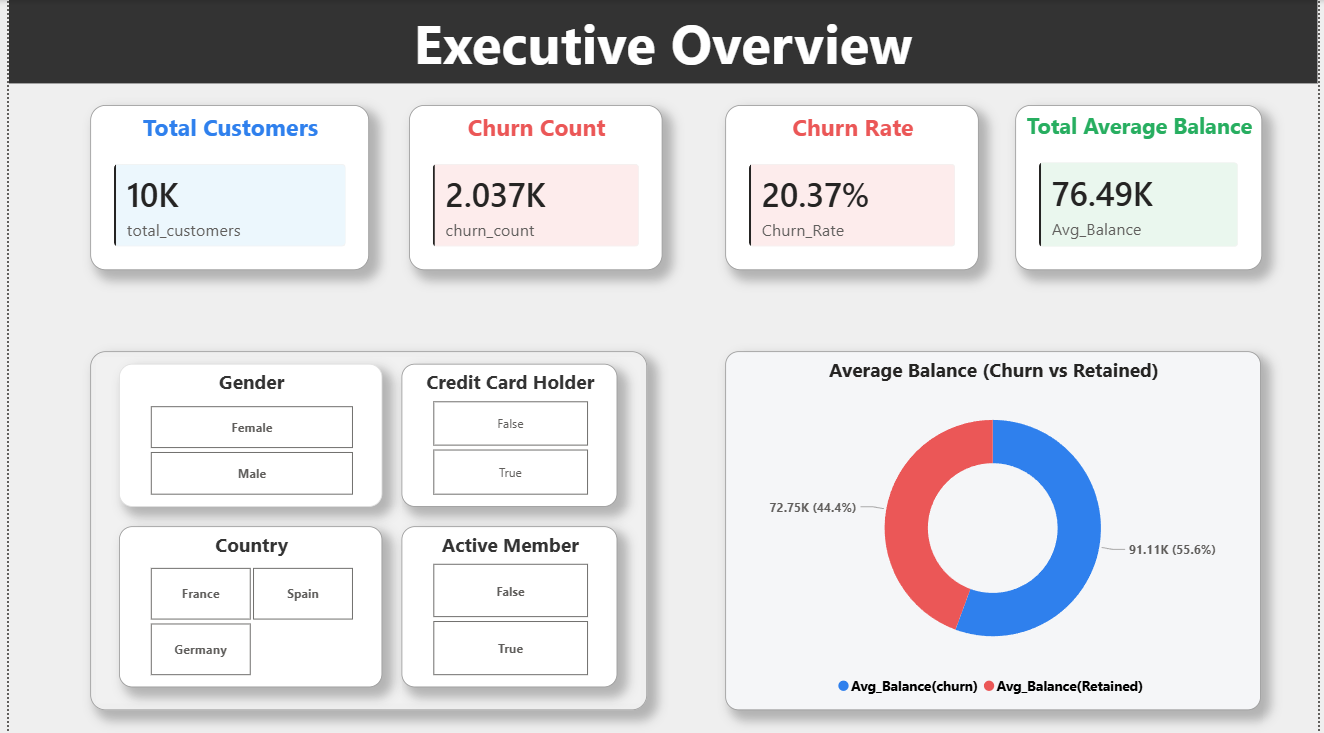

What the dashboard file says about the page in this screenshot:
{"tool":"powerbi","page":{"name":"Executive Overview","canvas":[1280,720],"ordinal":1},"visuals":[{"type":"shape","box":[79.6,343.1,544.8,351.3],"z":0},{"type":"cardVisual","title":"Total Customers","fields":{"Data":["Churn_Modelling.total_customers"]},"box":[79.6,102.9,273.1,161.9],"z":1000},{"type":"cardVisual","title":"Churn Count","fields":{"Data":["Churn_Modelling.churn_count"]},"box":[391.1,102.9,248.4,161.9],"z":2000},{"type":"cardVisual","title":"Churn Rate","fields":{"Data":["Churn_Modelling.Churn_Rate"]},"box":[701.2,102.9,248.4,161.9],"z":3000},{"type":"cardVisual","title":"Total Average Balance","fields":{"Data":["Churn_Modelling.Avg_Balance"]},"box":[983.9,102.9,241.5,161.9],"z":4000},{"type":"textbox","box":[0,0,1280,81.2],"z":5000},{"type":"donutChart","title":"Average Balance (Churn vs Retained)","fields":{"Y":["Churn_Modelling.Avg_Balance(churn)","Churn_Modelling.Avg_Balance(Retained)"]},"box":[701.2,343.1,524.2,351.3],"z":6000},{"type":"slicer","title":"Gender","fields":{"Values":["Churn_Modelling.Gender"]},"box":[107,356.2,258,140],"z":7000},{"type":"slicer","title":"Country","fields":{"Values":["Churn_Modelling.Geography"]},"box":[107,515.4,258,157.8],"z":8000},{"type":"slicer","title":"Active Member","fields":{"Values":["Churn_Modelling.IsActiveMember"]},"box":[384.2,515.4,211.3,157.8],"z":9000},{"type":"slicer","title":"Credit Card Holder","fields":{"Values":["Churn_Modelling.HasCrCard"]},"box":[384.2,356.2,211.3,140],"z":10000}]}

Visuals, with their boxes in screenshot pixels (x1, y1, x2, y2), scaled from the page's 1280x720 canvas onto the 1324x733 screenshot:
shape: box(82, 349, 646, 707)
"Total Customers" cardVisual: box(82, 105, 365, 270)
"Churn Count" cardVisual: box(405, 105, 661, 270)
"Churn Rate" cardVisual: box(725, 105, 982, 270)
"Total Average Balance" cardVisual: box(1018, 105, 1268, 270)
textbox: box(0, 0, 1323, 83)
"Average Balance (Churn vs Retained)" donutChart: box(725, 349, 1268, 707)
"Gender" slicer: box(111, 363, 378, 505)
"Country" slicer: box(111, 525, 378, 685)
"Active Member" slicer: box(397, 525, 616, 685)
"Credit Card Holder" slicer: box(397, 363, 616, 505)
